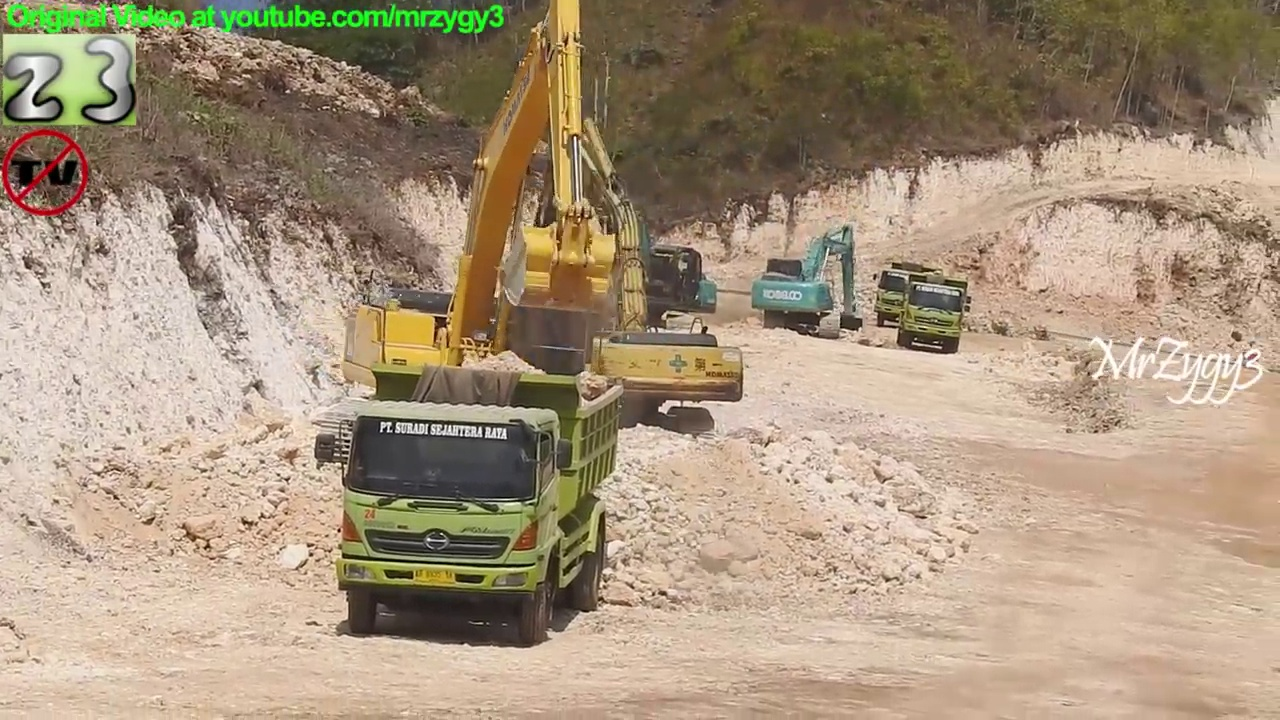excavator: (313, 2, 640, 486), (447, 114, 750, 447), (507, 136, 724, 361), (748, 221, 865, 345)
truck: (313, 359, 626, 652), (891, 272, 977, 354), (875, 258, 944, 331)
